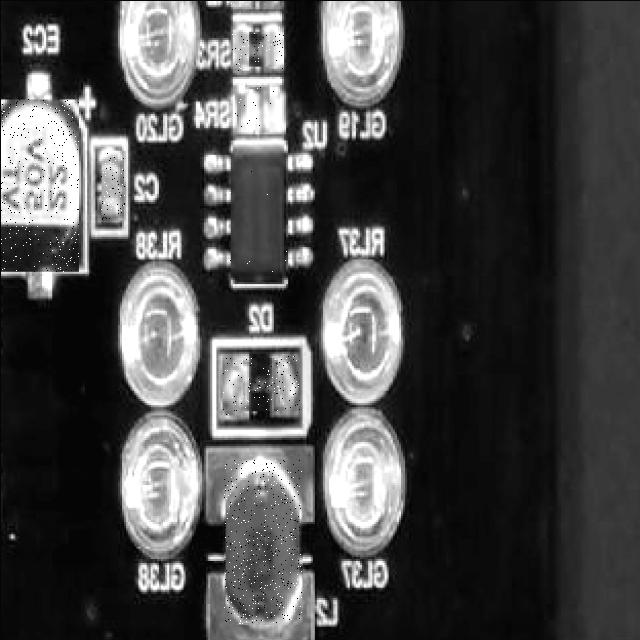Capacitor: (0, 98, 78, 271), (100, 150, 124, 219)
Diode: (237, 357, 286, 410)
IC: (229, 140, 286, 283)
Inductor: (222, 460, 300, 624)
Register: (245, 86, 272, 133), (242, 30, 273, 66)
Soldering: (277, 355, 299, 410), (221, 355, 241, 414), (233, 88, 253, 134), (268, 84, 284, 133), (267, 26, 283, 68), (231, 28, 247, 70), (230, 0, 246, 6)
